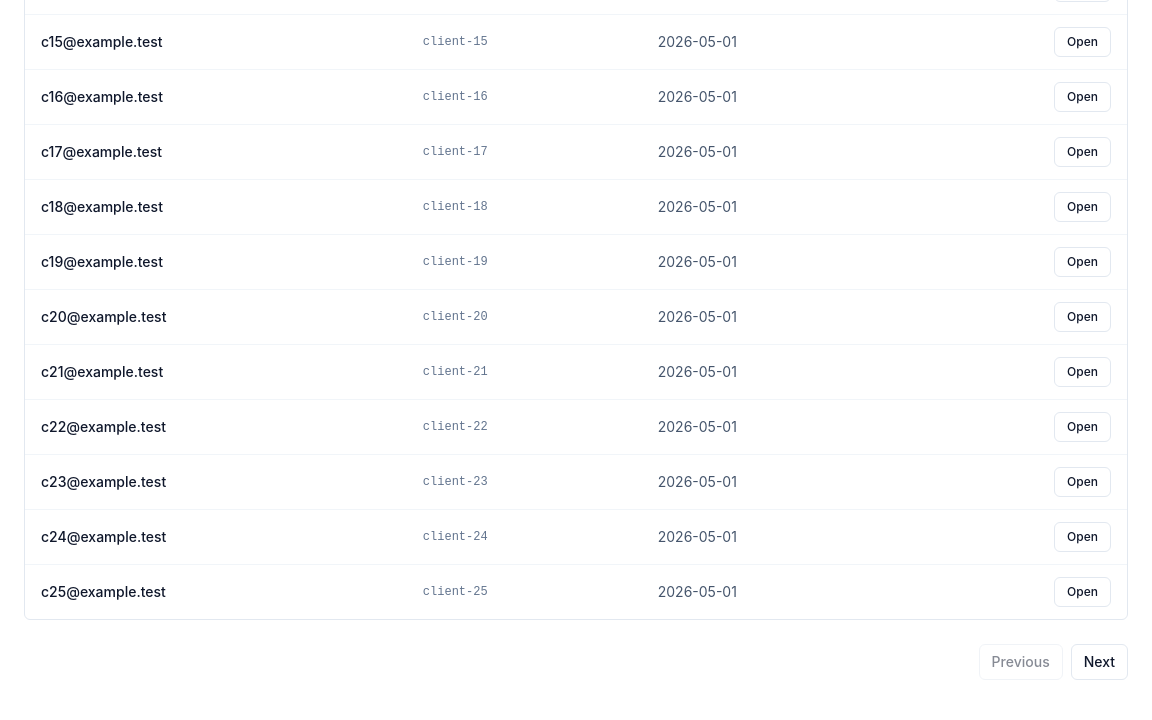
Test: AdminClientsView › forwards limit/offset to the API on next-page click
(page scrolled)
Step 1. Click the button with test id "clients-next" → (1099, 662), box [1071,644,1128,680]
(page scrolled)
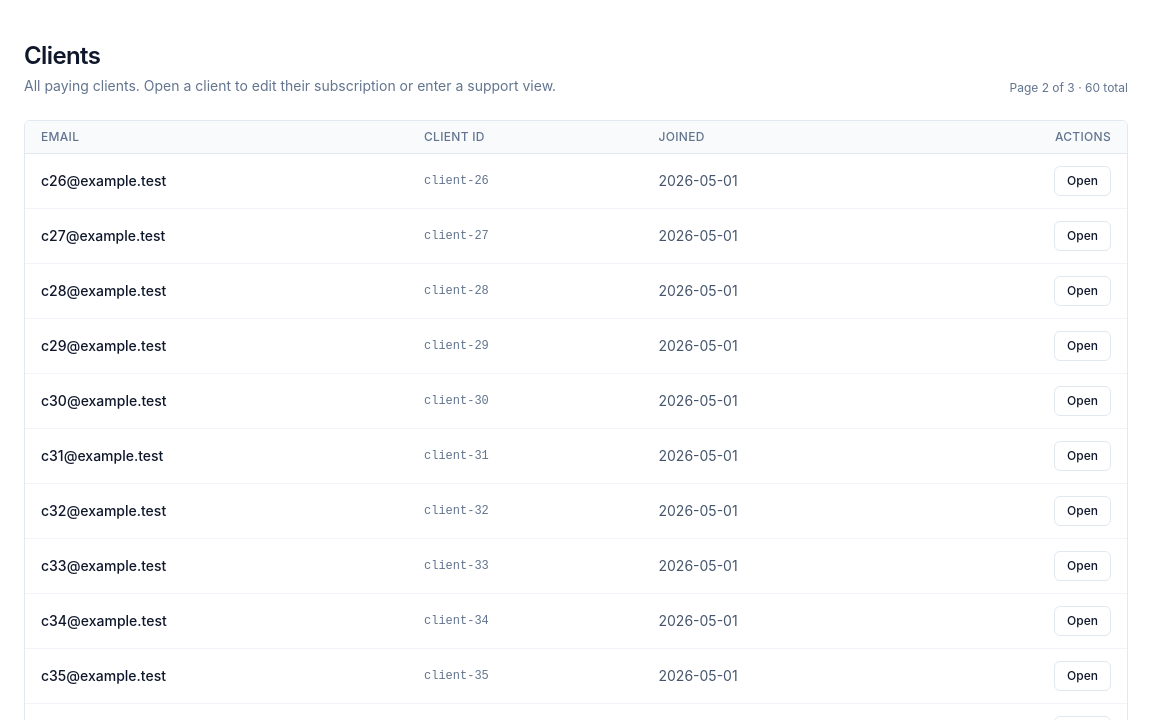
Expected: the text with test id "clients-page-indicator" shows "Page 2", [1010,80,1128,95]
